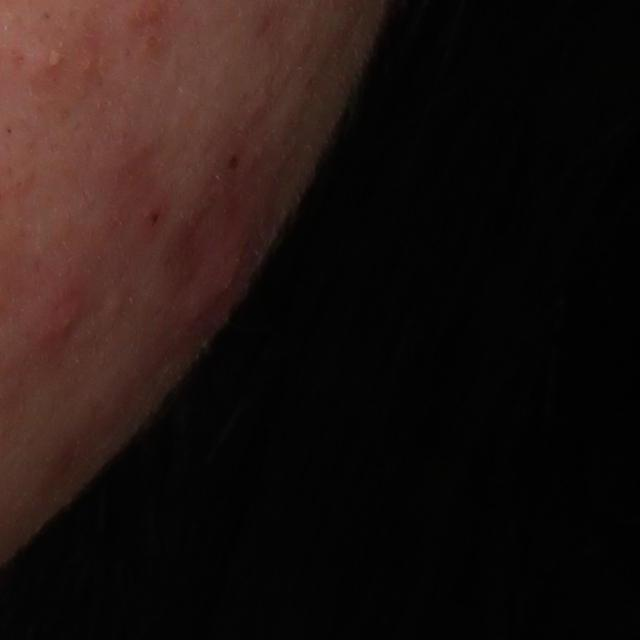papule: (34, 295, 89, 362)
pustule: (36, 39, 69, 73)
